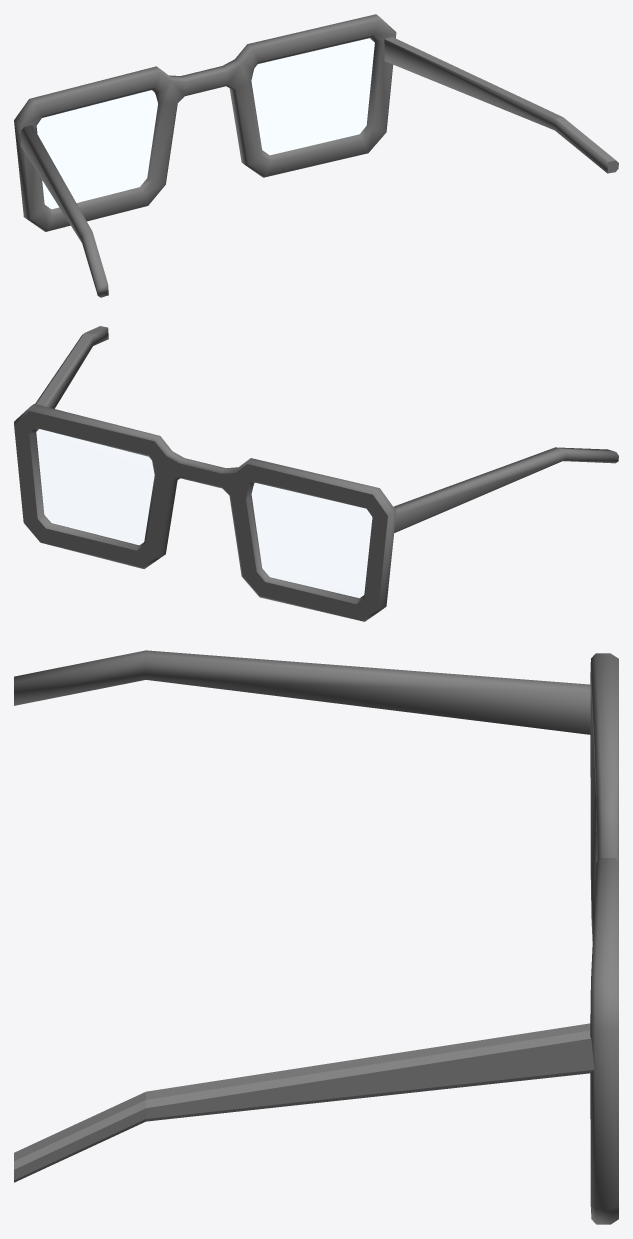
File: IG_FackMask_GlassShiny.fbx
The picture shows the model from 3 angles, top to bottom: view 1: azimuth 30°, elevation 25°; view 2: azimuth 150°, elevation 25°; view 3: azimuth 270°, elevation 25°; orthographic projection. The views are drawn at different scales.
Visible parts, largest first — view 1: Glasses; view 2: Glasses; view 3: Glasses.
Boxes of the visible parts, bbox=[...] form: Glasses: bbox=[14, 14, 618, 297]; Glasses: bbox=[14, 326, 618, 621]; Glasses: bbox=[14, 650, 618, 1224].
Size of the model in its own units: 0.5873 by 0.1439 by 0.3066.
